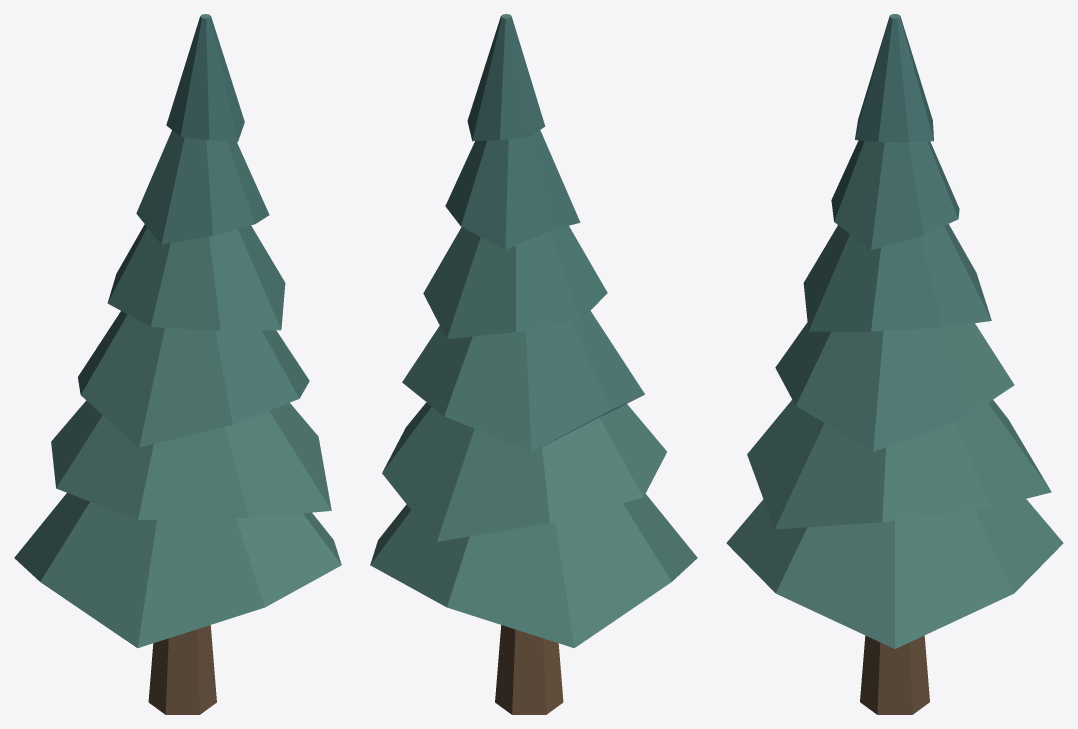
The model's file is tree_pine_b.glb.
3 renders of one model, left to right at view 1: azimuth 30°, elevation 25°; view 2: azimuth 150°, elevation 25°; view 3: azimuth 270°, elevation 25°, orthographic. The views are drawn at different scales.
Visible parts, largest first — view 1: tree_pine_b; view 2: tree_pine_b; view 3: tree_pine_b.
Part boxes in pixels (<box>): tree_pine_b: <box>14,14,341,714</box>; tree_pine_b: <box>370,14,697,714</box>; tree_pine_b: <box>726,14,1063,714</box>.
Bounding box in the file's own units: 2.57 × 5.7 × 2.5.
